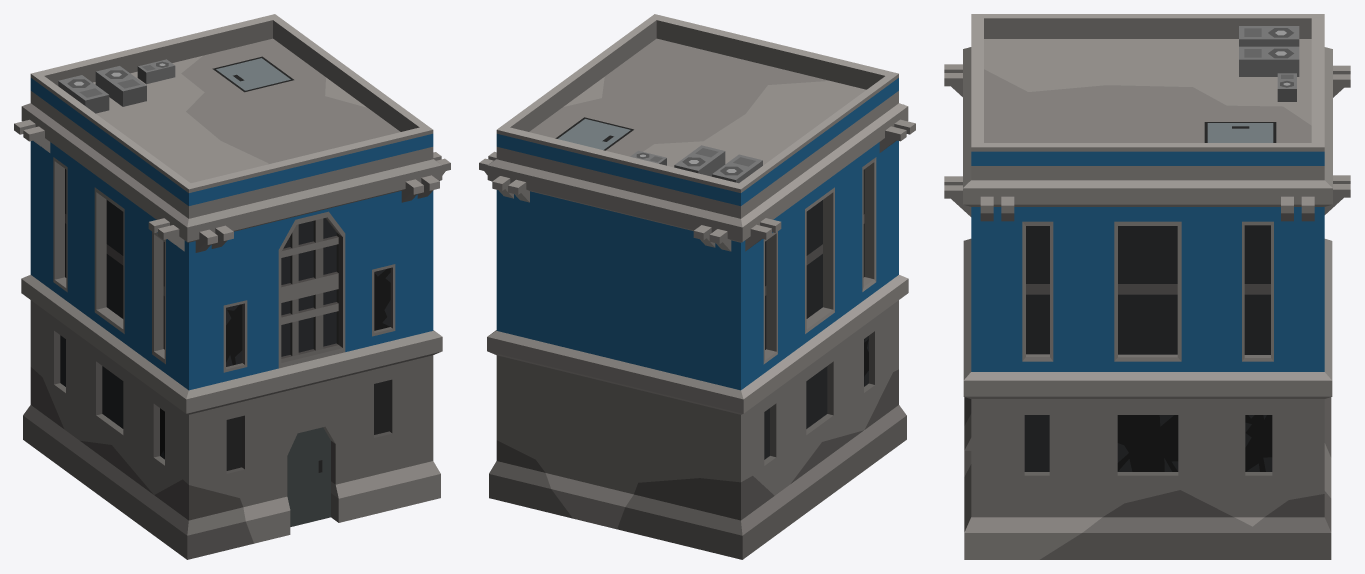
The model's file is SA_Bld_WarehouseOld_Damaged_02.gltf.
3 views of the same model, side by side, from view 1: azimuth 30°, elevation 25°; view 2: azimuth 150°, elevation 25°; view 3: azimuth 270°, elevation 25° (orthographic). The views are drawn at different scales.
Parts seen in each view (by area): view 1: SA_Bld_WarehouseOld_Damaged_02; view 2: SA_Bld_WarehouseOld_Damaged_02; view 3: SA_Bld_WarehouseOld_Damaged_02.
Boxes of the visible parts, left/top/right/bottom form: SA_Bld_WarehouseOld_Damaged_02: left=14, top=14, right=450, bottom=559; SA_Bld_WarehouseOld_Damaged_02: left=479, top=14, right=915, bottom=559; SA_Bld_WarehouseOld_Damaged_02: left=944, top=14, right=1350, bottom=559.
Size of the model in its own units: 13.59 by 16.6 by 14.91.
1 material, 1 textured.
